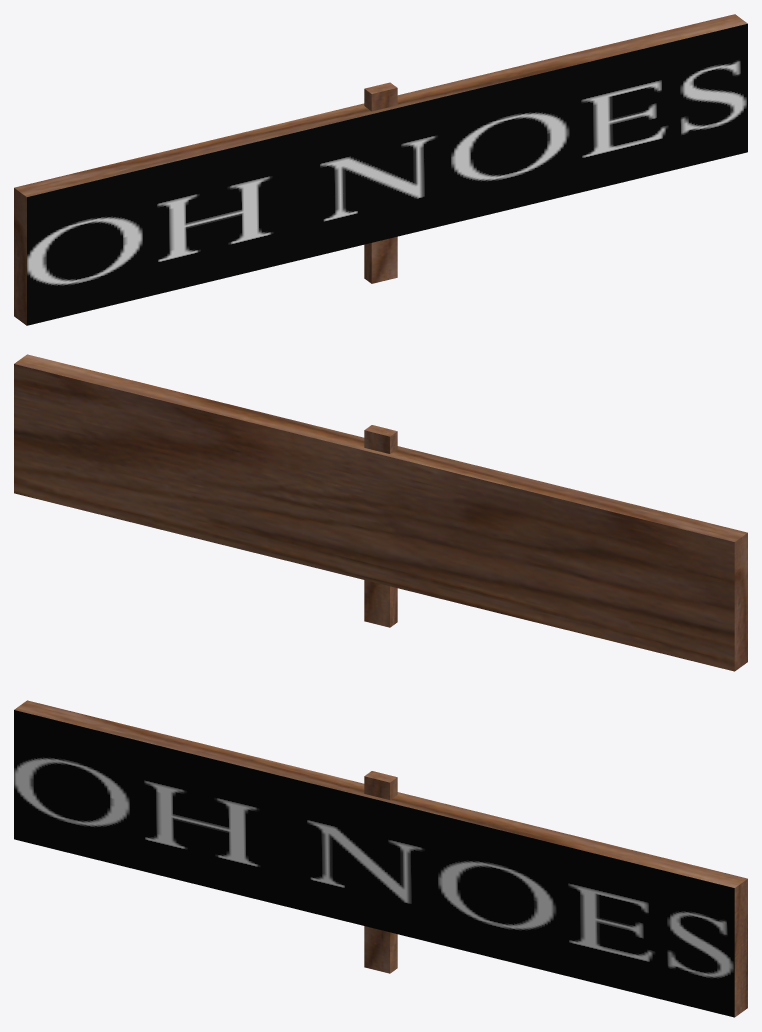
The model's file is ohnoes.obj.
3 renders of one model, top to bottom at view 1: azimuth 30°, elevation 25°; view 2: azimuth 150°, elevation 25°; view 3: azimuth 330°, elevation 25°, orthographic.
Visible parts, largest first — view 1: SmoothBlockModel12; view 2: SmoothBlockModel12; view 3: SmoothBlockModel12.
Boxes of the visible parts, x1,y1,x2,y2 form: SmoothBlockModel12: [14, 14, 747, 325]; SmoothBlockModel12: [14, 354, 747, 671]; SmoothBlockModel12: [14, 700, 747, 1017].
Size of the model in its own units: 8.62 by 2.18 by 0.321.
1 material, 1 textured.
